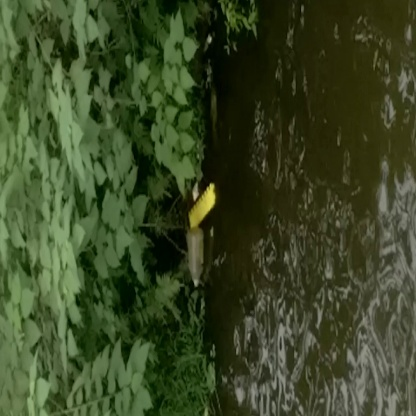bottle: (180, 224, 213, 289)
